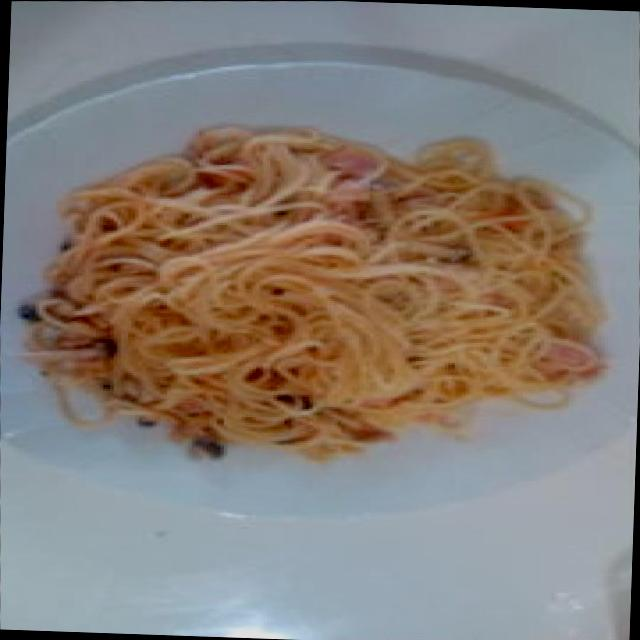Pasta: (16, 108, 632, 472)
